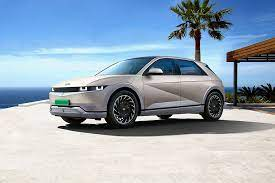Honda Ioniq: (47, 51, 228, 137)
